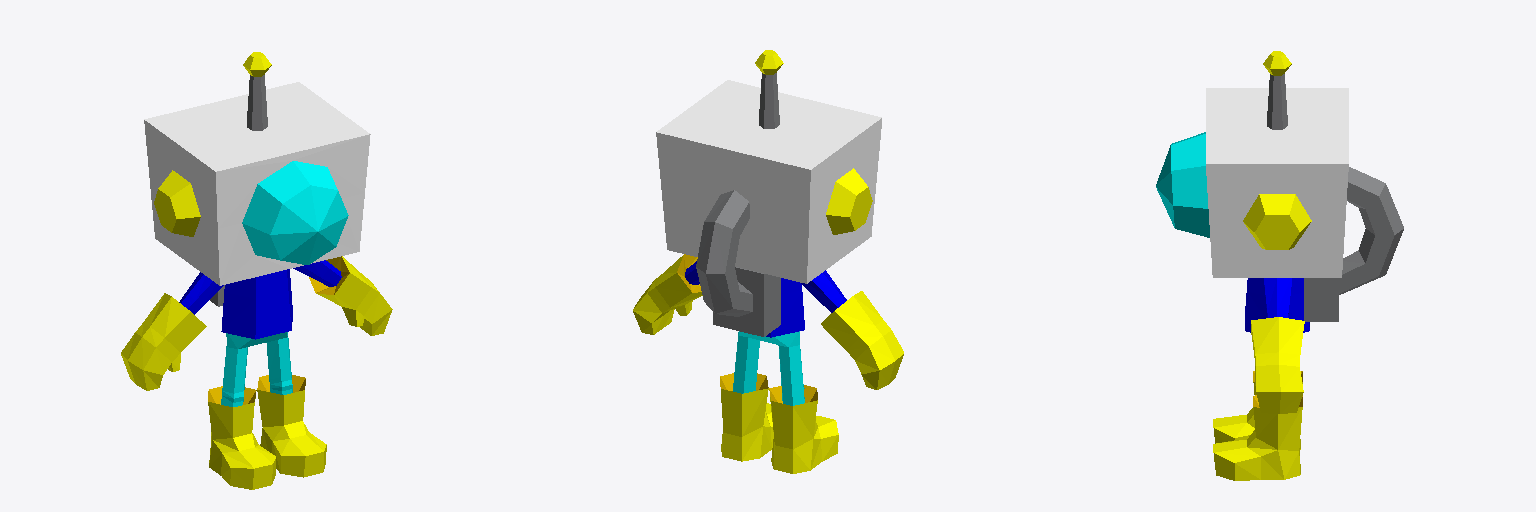
3 views of the same model, side by side, from view 1: azimuth 30°, elevation 25°; view 2: azimuth 150°, elevation 25°; view 3: azimuth 270°, elevation 25° (orthographic).
Parts seen in each view (by area): view 1: AstroBoy_Cube; view 2: AstroBoy_Cube; view 3: AstroBoy_Cube.
Boxes of the visible parts, x1,y1,x2,y2 form: AstroBoy_Cube: [121, 52, 392, 489]; AstroBoy_Cube: [633, 50, 903, 473]; AstroBoy_Cube: [1156, 51, 1403, 480].
Bounding box in the file's own units: 6.41 × 9.67 × 5.4.
Materials: 2 (1 with a texture image).